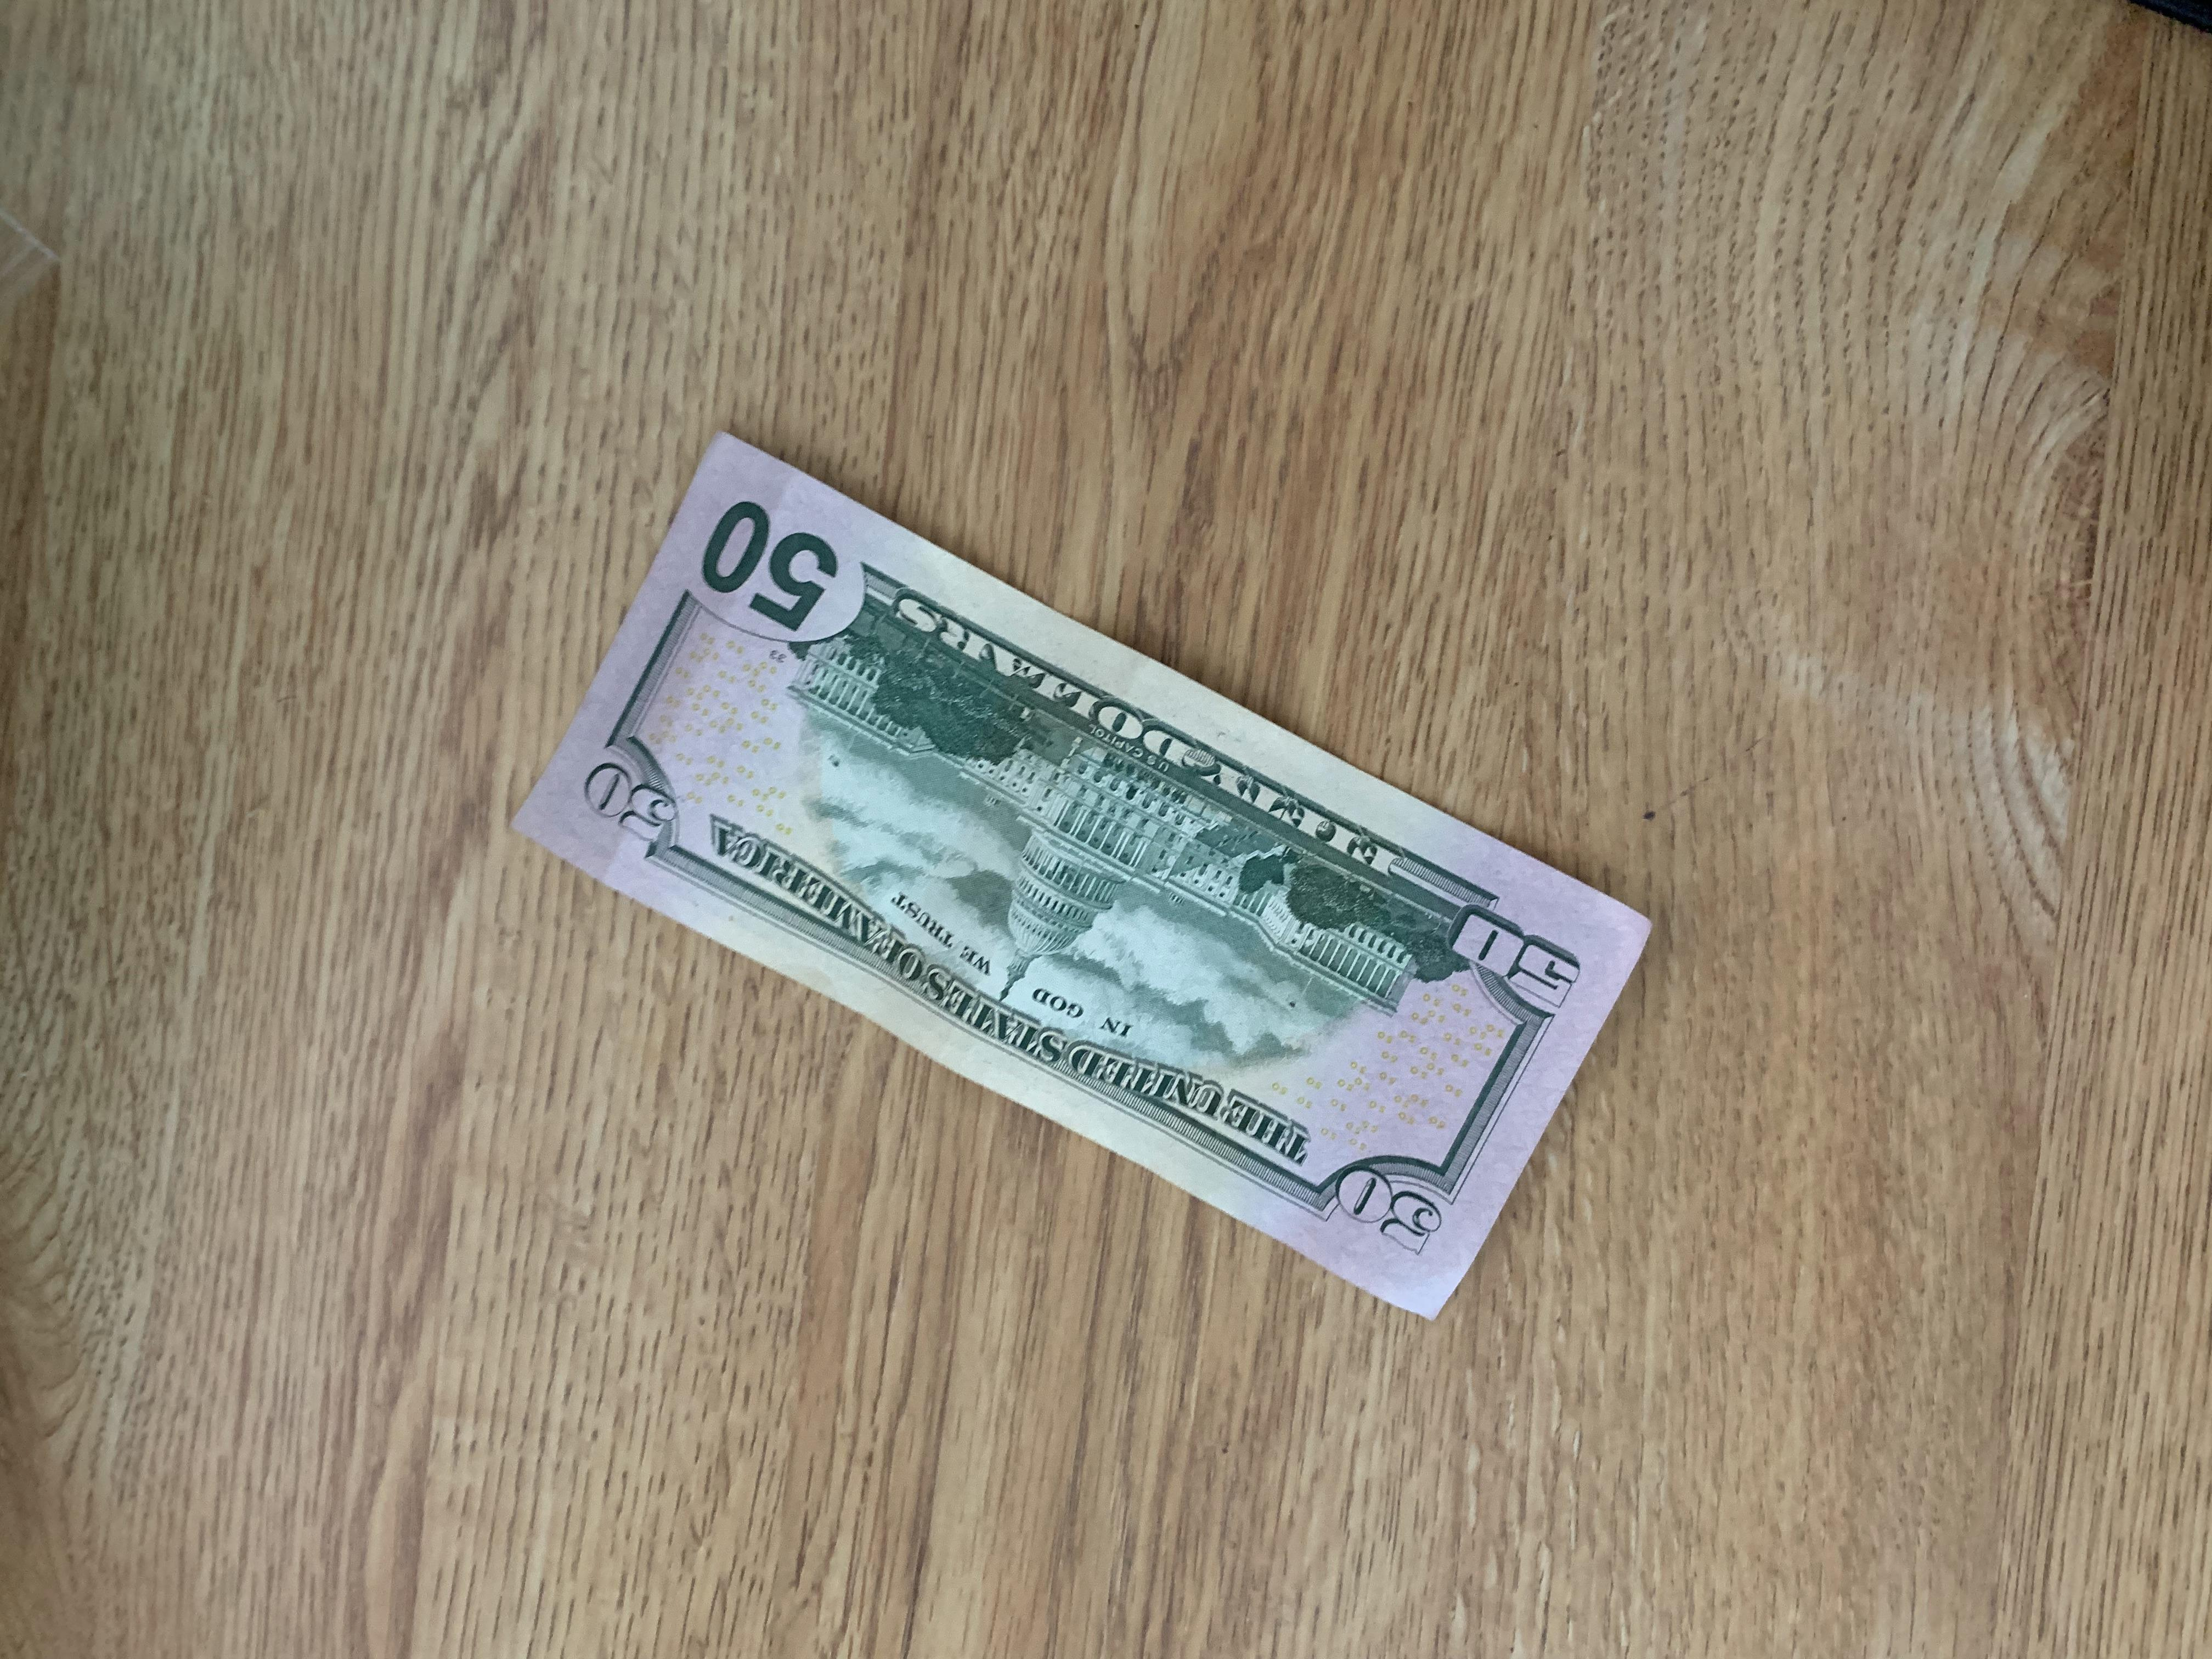FiftyBill: (505, 425, 1665, 1323)
